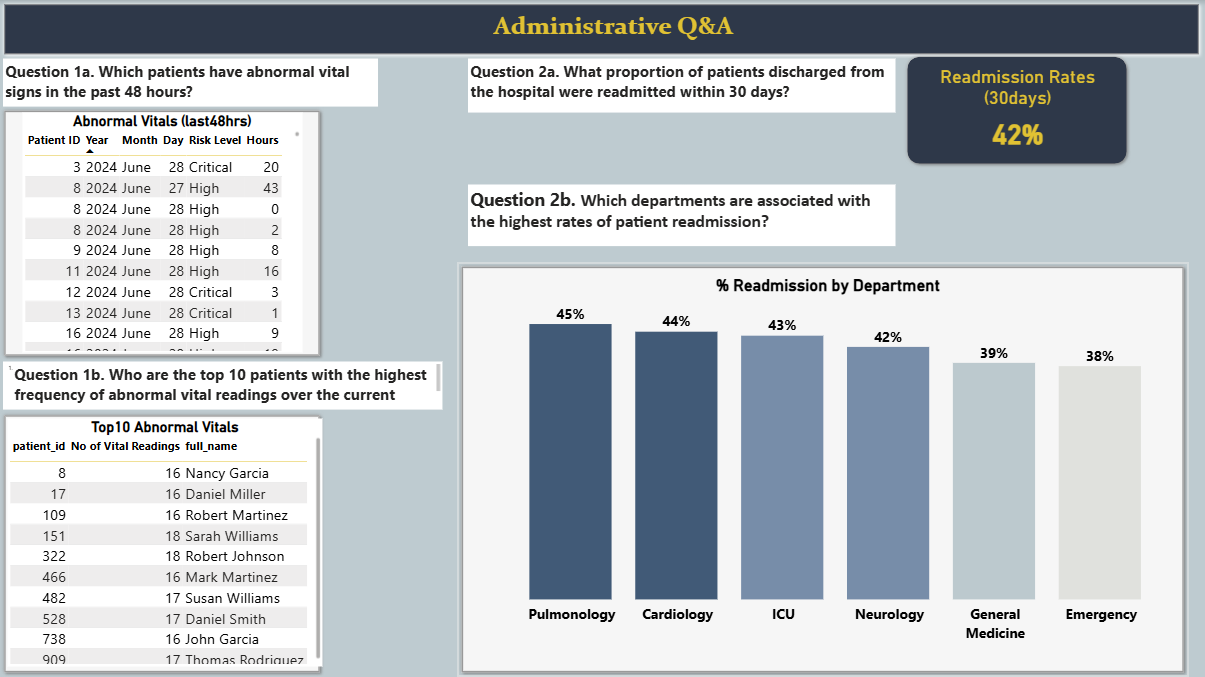

The page's visual inventory and layout, read from the dashboard file:
{"tool":"powerbi","page":{"name":"Q&A 1","canvas":[2560,1440],"ordinal":2},"visuals":[{"type":"shape","box":[970.3,556.7,1549.3,878],"z":0},{"type":"shape","box":[0,871.7,687.1,563.1],"z":1000},{"type":"shape","title":"Abnormal signs past 48hrs","box":[0,225.9,687.1,537.6],"z":2000},{"type":"shape","box":[0,0,2551.3,124.1],"z":3000},{"type":"textbox","box":[992.5,15.9,617.2,95.4],"z":4000},{"type":"clusteredColumnChart","title":"% Readmission by Department","fields":{"Category":["admissions.department"],"Y":["Measures_.Readmission Rates (30days)"]},"box":[992.5,585.3,1527,782.6],"z":5000},{"type":"shape","box":[1915.1,111.3,483.5,245],"z":7000},{"type":"card","title":"Readmission Rates (30days)","fields":{"Values":["Measures_.Readmission Rates (30days)"]},"box":[1924.6,140,467.6,187.7],"z":8000},{"type":"tableEx","title":"Abnormal Vitals (last48hrs)","fields":{"Values":["Abnormal vitals (last 48hrs).Patient_ID","Abnormal vitals (last 48hrs).Time Recorded.Variation.Date Hierarchy.Year","Abnormal vitals (last 48hrs).Time Recorded.Variation.Date Hierarchy.Month","Abnormal vitals (last 48hrs).Time Recorded.Variation.Date Hierarchy.Day","Abnormal vitals (last 48hrs).Risk Level","Abnormal vitals (last 48hrs).Hours"]},"box":[47.7,238.6,591.7,509],"z":10000},{"type":"tableEx","title":"Top10 Abnormal Vitals","fields":{"Values":["Abnormal vitals(current month).patient_id","Abnormal vitals(current month).No of Vital Readings","Abnormal vitals(current month).full_name"]},"box":[15.9,887.6,668.1,524.9],"z":11000},{"type":"textbox","box":[6.4,124.1,795.3,101.8],"z":12000},{"type":"textbox","box":[6.4,766.7,932.1,101.8],"z":13000},{"type":"textbox","box":[992.5,124.1,906.6,114.5],"z":14000},{"type":"textbox","box":[992.5,391.3,906.6,130.4],"z":15000}]}

Visuals, with their boxes in screenshot pixels (x1, y1, x2, y2), scaled from the page's 2560x1440 canvas onto the 1205x677 screenshot:
shape: l=457, t=262, r=1186, b=675
shape: l=0, t=410, r=323, b=675
"Abnormal signs past 48hrs" shape: l=0, t=106, r=323, b=359
shape: l=0, t=0, r=1201, b=58
textbox: l=467, t=7, r=758, b=52
"% Readmission by Department" clusteredColumnChart: l=467, t=275, r=1186, b=643
shape: l=901, t=52, r=1129, b=168
"Readmission Rates (30days)" card: l=906, t=66, r=1126, b=154
"Abnormal Vitals (last48hrs)" tableEx: l=22, t=112, r=301, b=351
"Top10 Abnormal Vitals" tableEx: l=7, t=417, r=322, b=664
textbox: l=3, t=58, r=377, b=106
textbox: l=3, t=360, r=442, b=408
textbox: l=467, t=58, r=894, b=112
textbox: l=467, t=184, r=894, b=245
